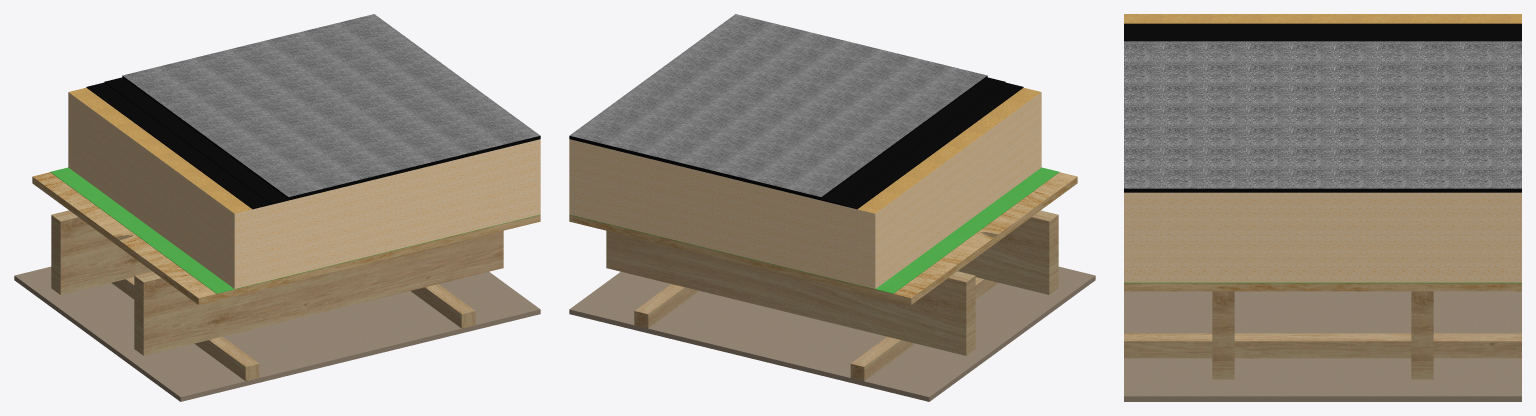
Rendered from Flat-Roof_Warm-Roof_01.glb.
The picture shows the model from 3 angles, left to right: view 1: azimuth 30°, elevation 25°; view 2: azimuth 150°, elevation 25°; view 3: azimuth 270°, elevation 25°; orthographic projection. The views are drawn at different scales.
Visible parts, largest first — view 1: Geom3D_5, Geom3D__1, Geom3D__6, Geom3D, Geom3D_, Geom3D_1, Geom3D__3, Geom3D__4, Geom3D__2, Geom3D_4, Geom3D_2, Geom3D_3 (+1 smaller); view 2: Geom3D_5, Geom3D__1, Geom3D__6, Geom3D_1, Geom3D_, Geom3D, Geom3D__3, Geom3D__4, Geom3D__2, Geom3D_4, Geom3D_2, Geom3D_3 (+1 smaller); view 3: Geom3D_5, Geom3D__1, Geom3D__6, Geom3D_3, Geom3D__3, Geom3D_4, Geom3D__4, Geom3D_, Geom3D, Geom3D_1, Geom3D__5, Geom3D__2.
Part boxes in pixels (<box>): Geom3D_5: <box>122,14,540,196</box>; Geom3D__1: <box>68,92,540,288</box>; Geom3D__6: <box>14,266,540,401</box>; Geom3D: <box>134,230,503,355</box>; Geom3D_: <box>32,172,540,304</box>; Geom3D_1: <box>51,210,151,294</box>; Geom3D__3: <box>86,82,540,209</box>; Geom3D__4: <box>104,77,540,203</box>; Geom3D__2: <box>50,167,540,293</box>; Geom3D_4: <box>68,87,252,213</box>; Geom3D_2: <box>111,277,259,381</box>; Geom3D_3: <box>411,284,475,328</box>; Geom3D_5: <box>569,14,987,196</box>; Geom3D__1: <box>569,92,1041,288</box>; Geom3D__6: <box>569,266,1095,401</box>; Geom3D_1: <box>606,230,975,355</box>; Geom3D_: <box>569,172,1077,304</box>; Geom3D: <box>958,210,1058,294</box>; Geom3D__3: <box>569,82,1023,209</box>; Geom3D__4: <box>569,77,1005,203</box>; Geom3D__2: <box>569,167,1059,293</box>; Geom3D_4: <box>857,87,1041,213</box>; Geom3D_2: <box>850,277,998,381</box>; Geom3D_3: <box>634,284,698,328</box>; Geom3D_5: <box>1124,41,1521,188</box>; Geom3D__1: <box>1124,192,1521,282</box>; Geom3D__6: <box>1124,291,1521,401</box>; Geom3D_3: <box>1124,333,1521,358</box>; Geom3D__3: <box>1124,23,1521,192</box>; Geom3D_4: <box>1124,14,1521,23</box>; Geom3D__4: <box>1124,33,1521,191</box>; Geom3D_: <box>1124,283,1521,291</box>; Geom3D: <box>1212,291,1234,379</box>; Geom3D_1: <box>1411,291,1433,379</box>; Geom3D__5: <box>1124,188,1521,190</box>; Geom3D__2: <box>1124,282,1521,283</box>.
Size of the model in its own units: 1 by 0.4735 by 0.8.
Materials: 9 (8 with a texture image).
